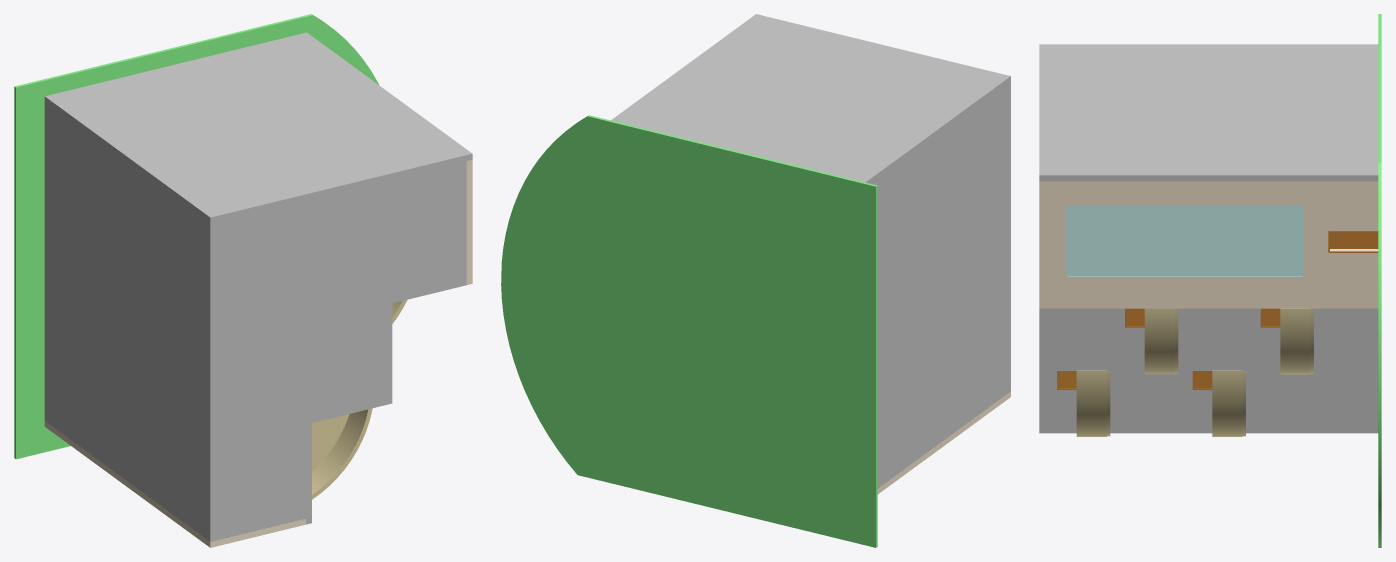
3 views of the same model, side by side, from view 1: azimuth 30°, elevation 25°; view 2: azimuth 150°, elevation 25°; view 3: azimuth 270°, elevation 25° (orthographic). The views are drawn at different scales.
Visible parts, largest first — view 1: Compound_Ceiling_Plain_02_355868, Floor_Generic_150mm_362962, Basic_Wall_Generic_-_300mm_355469, Basic_Wall_Generic_-_300mm_355451, Basic_Wall_Generic_-_300mm_353410, Basic_Wall_Generic_-_300mm_355425, Basic_Wall_Generic_-_300mm_355391, Basic_Wall_Generic_-_300mm_355462, Basic_Wall_Generic_-_300mm_355418, Basic_Wall_Generic_-_300mm_352693, Basic_Wall_Generic_-_300mm_355444, Basic_Wall_Generic_-_300mm_355384 (+6 smaller); view 2: Floor_Generic_150mm_362962, Basic_Wall_Generic_-_300mm_355425, Basic_Wall_Generic_-_300mm_355469, Basic_Wall_Generic_-_300mm_355391, Basic_Wall_Generic_-_300mm_355451, Basic_Wall_Generic_-_300mm_355384, Basic_Wall_Generic_-_300mm_355462, Basic_Wall_Generic_-_300mm_355418, Basic_Wall_Generic_-_300mm_355444, Basic_Wall_Generic_-_300mm_352693, Basic_Wall_Generic_-_300mm_353410; view 3: M_Fixed_0915_x_1830mm_360113, Basic_Wall_Generic_-_300mm_355384, Basic_Wall_Generic_-_300mm_352693, Basic_Wall_Generic_-_300mm_355418, Basic_Wall_Generic_-_300mm_355444, Basic_Wall_Generic_-_300mm_355462, Basic_Wall_Generic_-_300mm_352877, Basic_Wall_Generic_-_300mm_355463, Basic_Wall_Generic_-_300mm_355385, Basic_Wall_Generic_-_300mm_353248, Basic_Wall_Generic_-_300mm_355465, Basic_Wall_Generic_-_300mm_355421 (+16 smaller).
Boxes of the visible parts, left/top/right/bottom form: Compound_Ceiling_Plain_02_355868: left=216, top=161, right=466, bottom=540; Floor_Generic_150mm_362962: left=14, top=14, right=378, bottom=459; Basic_Wall_Generic_-_300mm_355469: left=177, top=199, right=216, bottom=541; Basic_Wall_Generic_-_300mm_355451: left=144, top=175, right=177, bottom=517; Basic_Wall_Generic_-_300mm_353410: left=44, top=102, right=77, bottom=444; Basic_Wall_Generic_-_300mm_355425: left=111, top=151, right=144, bottom=492; Basic_Wall_Generic_-_300mm_355391: left=78, top=127, right=110, bottom=468; Basic_Wall_Generic_-_300mm_355462: left=177, top=129, right=472, bottom=223; Basic_Wall_Generic_-_300mm_355418: left=111, top=81, right=405, bottom=174; Basic_Wall_Generic_-_300mm_352693: left=44, top=32, right=339, bottom=126; Basic_Wall_Generic_-_300mm_355444: left=144, top=105, right=438, bottom=198; Basic_Wall_Generic_-_300mm_355384: left=78, top=56, right=372, bottom=150; Floor_Generic_150mm_362962: left=501, top=115, right=877, bottom=547; Basic_Wall_Generic_-_300mm_355425: left=914, top=129, right=946, bottom=461; Basic_Wall_Generic_-_300mm_355469: left=978, top=82, right=1010, bottom=414; Basic_Wall_Generic_-_300mm_355391: left=882, top=153, right=914, bottom=485; Basic_Wall_Generic_-_300mm_355451: left=946, top=106, right=978, bottom=438; Basic_Wall_Generic_-_300mm_355384: left=628, top=84, right=914, bottom=175; Basic_Wall_Generic_-_300mm_355462: left=724, top=14, right=1010, bottom=104; Basic_Wall_Generic_-_300mm_355418: left=660, top=61, right=946, bottom=152; Basic_Wall_Generic_-_300mm_355444: left=692, top=37, right=978, bottom=128; Basic_Wall_Generic_-_300mm_352693: left=611, top=108, right=881, bottom=183; Basic_Wall_Generic_-_300mm_353410: left=872, top=176, right=881, bottom=488; M_Fixed_0915_x_1830mm_360113: left=1066, top=206, right=1303, bottom=277; Basic_Wall_Generic_-_300mm_355384: left=1242, top=44, right=1310, bottom=181; Basic_Wall_Generic_-_300mm_352693: left=1310, top=44, right=1378, bottom=181; Basic_Wall_Generic_-_300mm_355418: left=1175, top=44, right=1242, bottom=181; Basic_Wall_Generic_-_300mm_355444: left=1107, top=44, right=1174, bottom=181; Basic_Wall_Generic_-_300mm_355462: left=1039, top=44, right=1106, bottom=181; Basic_Wall_Generic_-_300mm_352877: left=1310, top=181, right=1378, bottom=308; Basic_Wall_Generic_-_300mm_355463: left=1039, top=181, right=1106, bottom=308; Basic_Wall_Generic_-_300mm_355385: left=1242, top=181, right=1310, bottom=308; Basic_Wall_Generic_-_300mm_353248: left=1310, top=371, right=1378, bottom=433; Basic_Wall_Generic_-_300mm_355465: left=1039, top=308, right=1106, bottom=370; Basic_Wall_Generic_-_300mm_355421: left=1178, top=308, right=1242, bottom=370.
Bounding box in the file's own units: 66.18 × 60.91 × 49.7.
